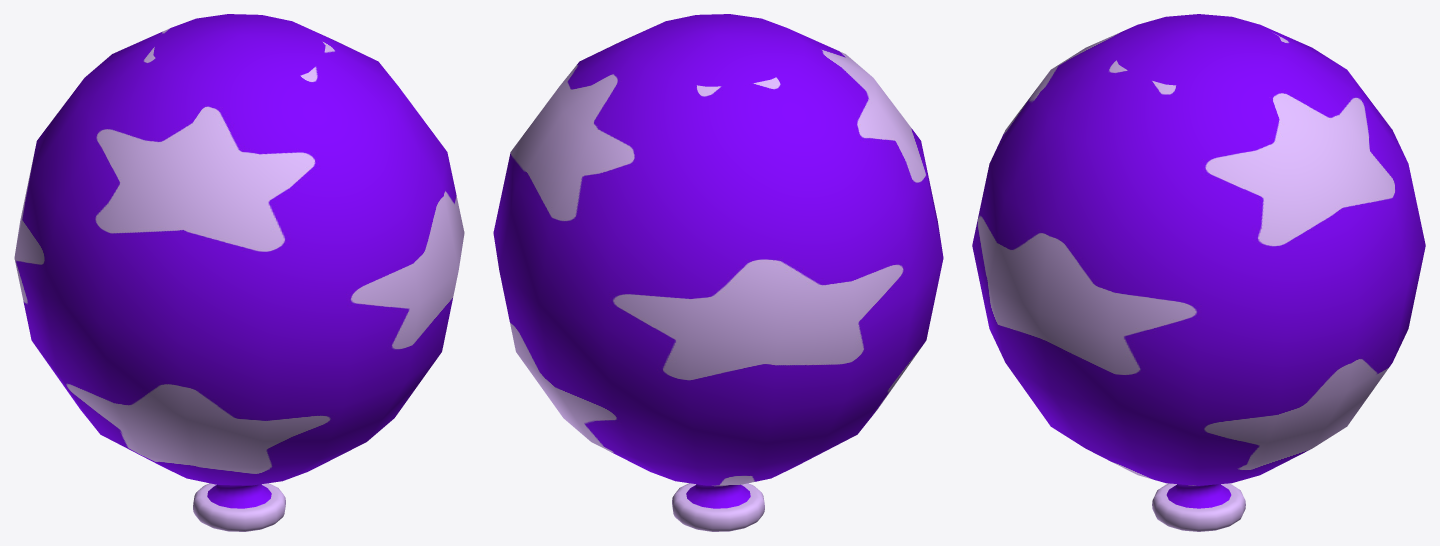
Rendered from Balloon.fbx.
3 views of the same model, side by side, from view 1: azimuth 30°, elevation 25°; view 2: azimuth 150°, elevation 25°; view 3: azimuth 270°, elevation 25° (orthographic).
Visible parts, largest first — view 1: Balloon; view 2: Balloon; view 3: Balloon.
Part boxes in pixels (x1=…): Balloon: x1=14, y1=14, x2=464, y2=531; Balloon: x1=493, y1=14, x2=943, y2=531; Balloon: x1=972, y1=14, x2=1425, y2=531.
Size of the model in its own units: 600 by 700 by 600.
